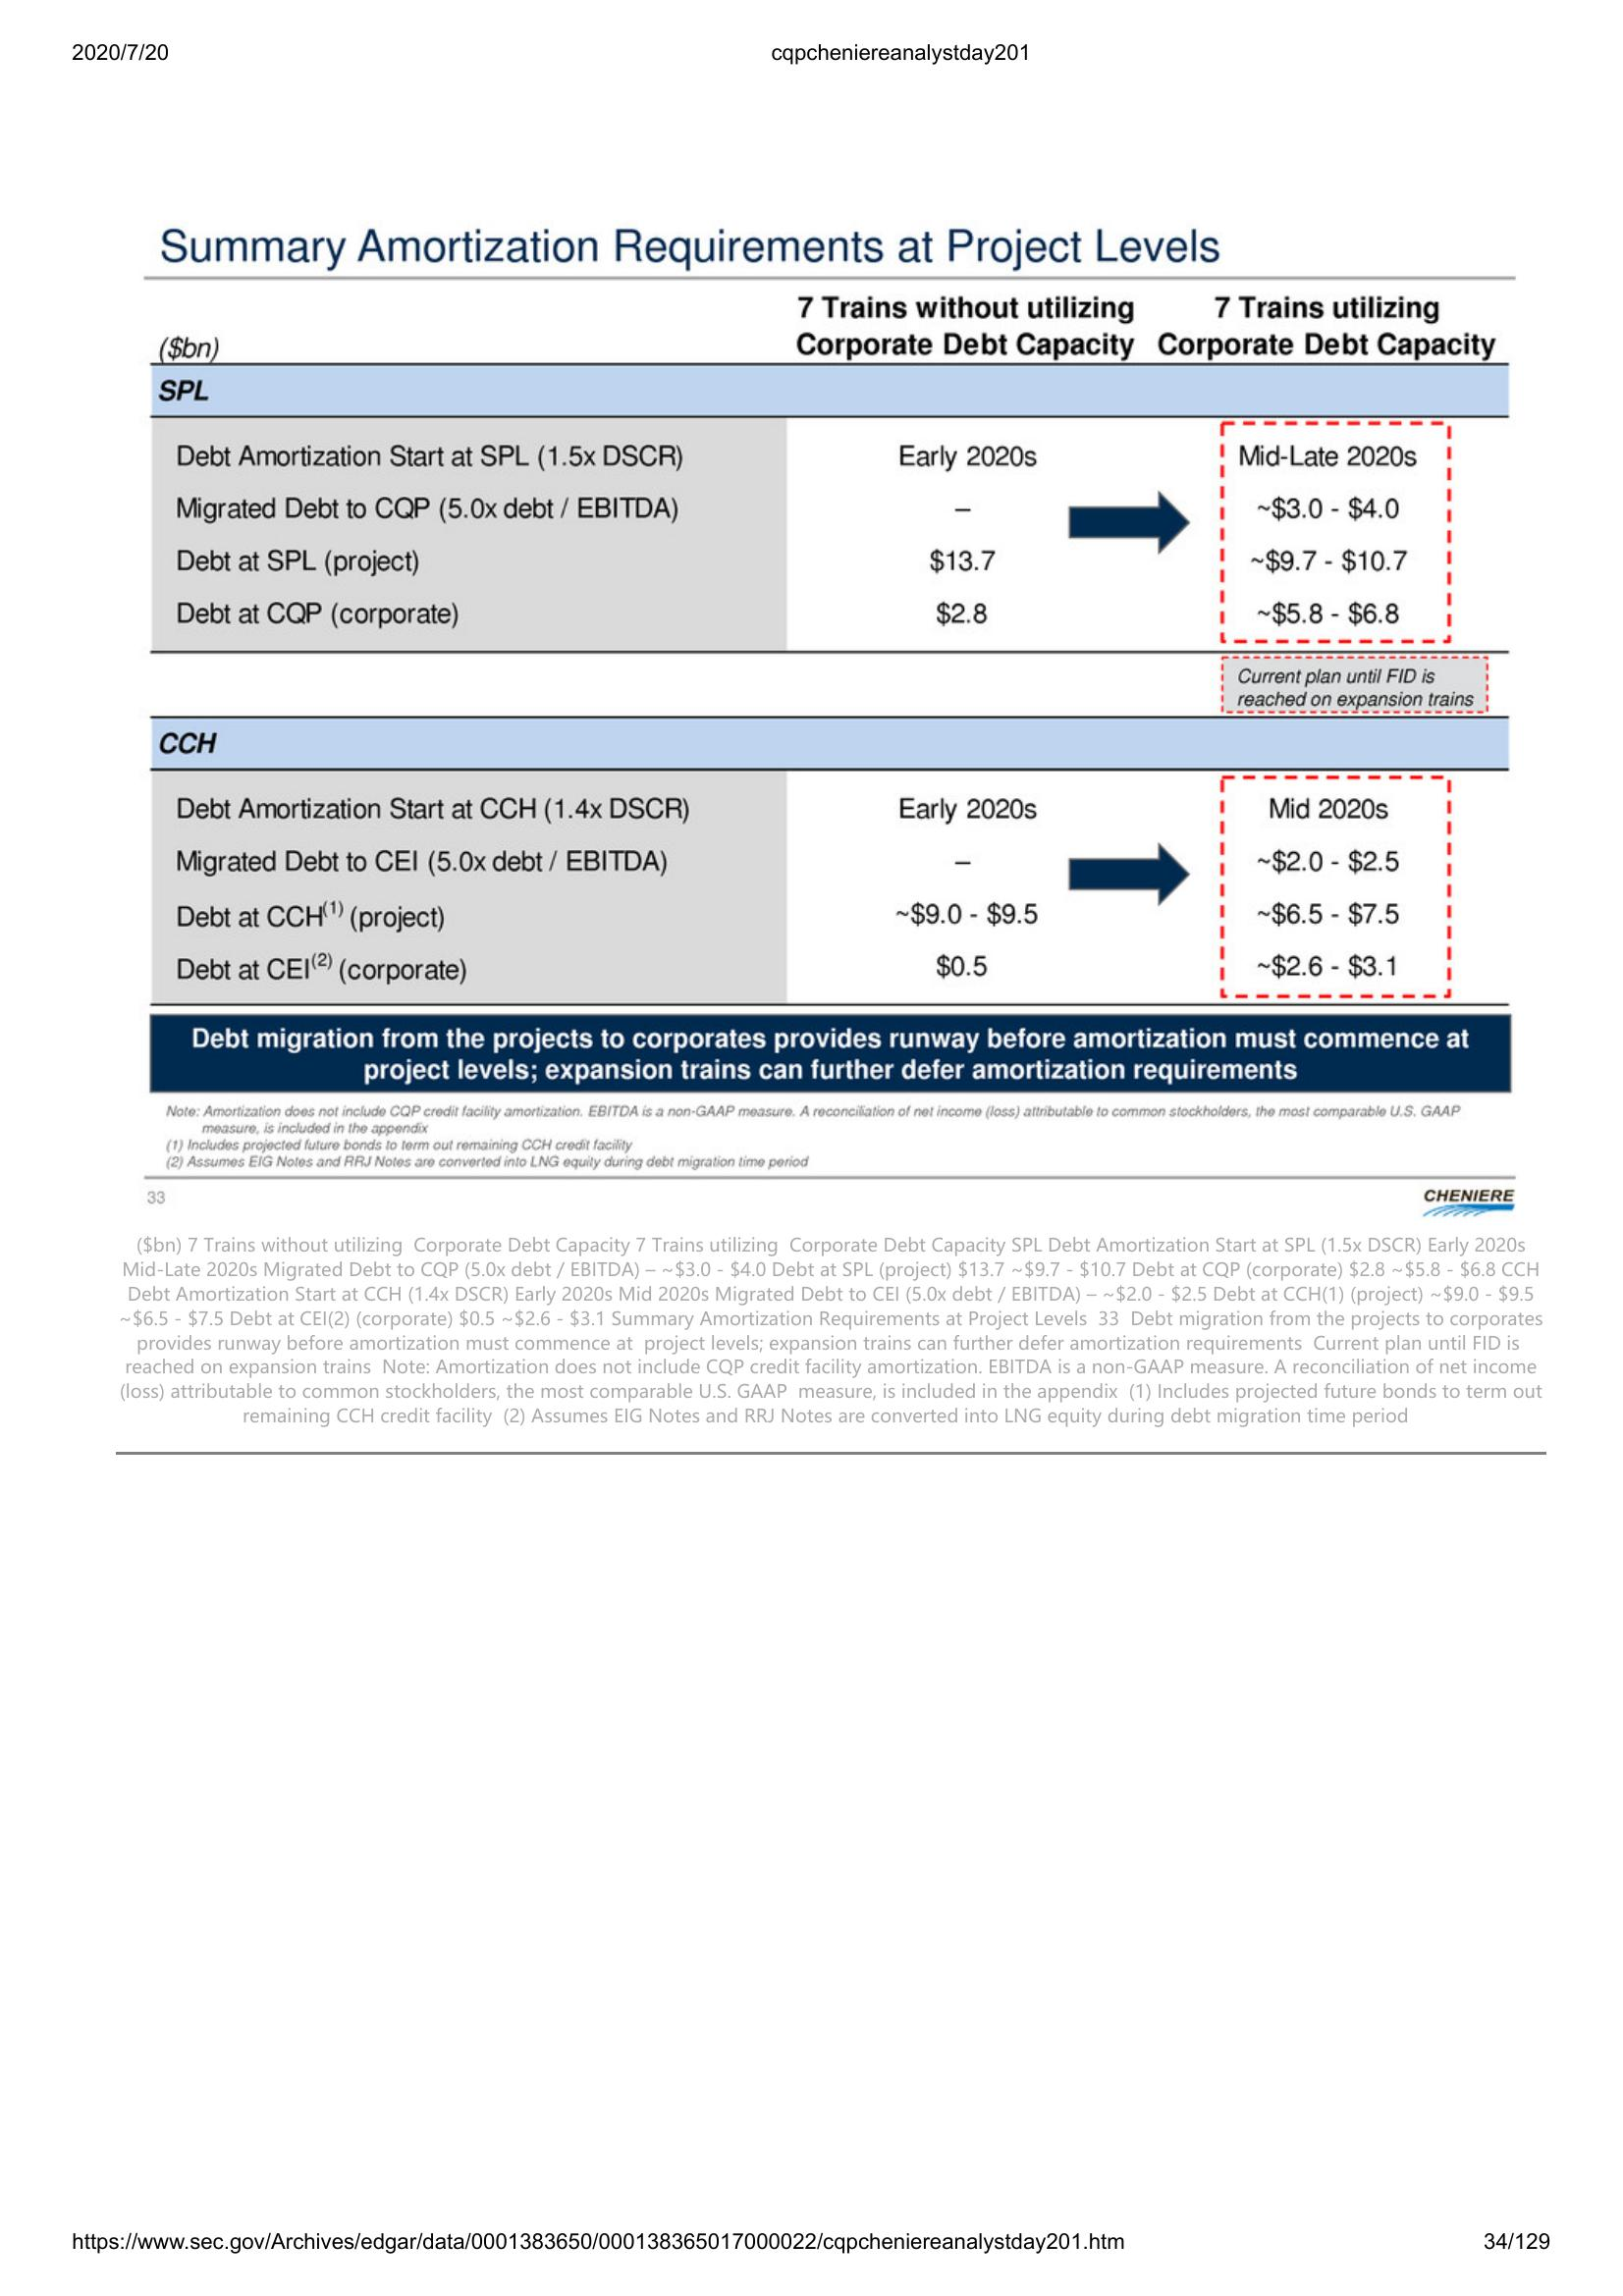table: (151, 356, 1516, 665), (144, 714, 1519, 1008)
